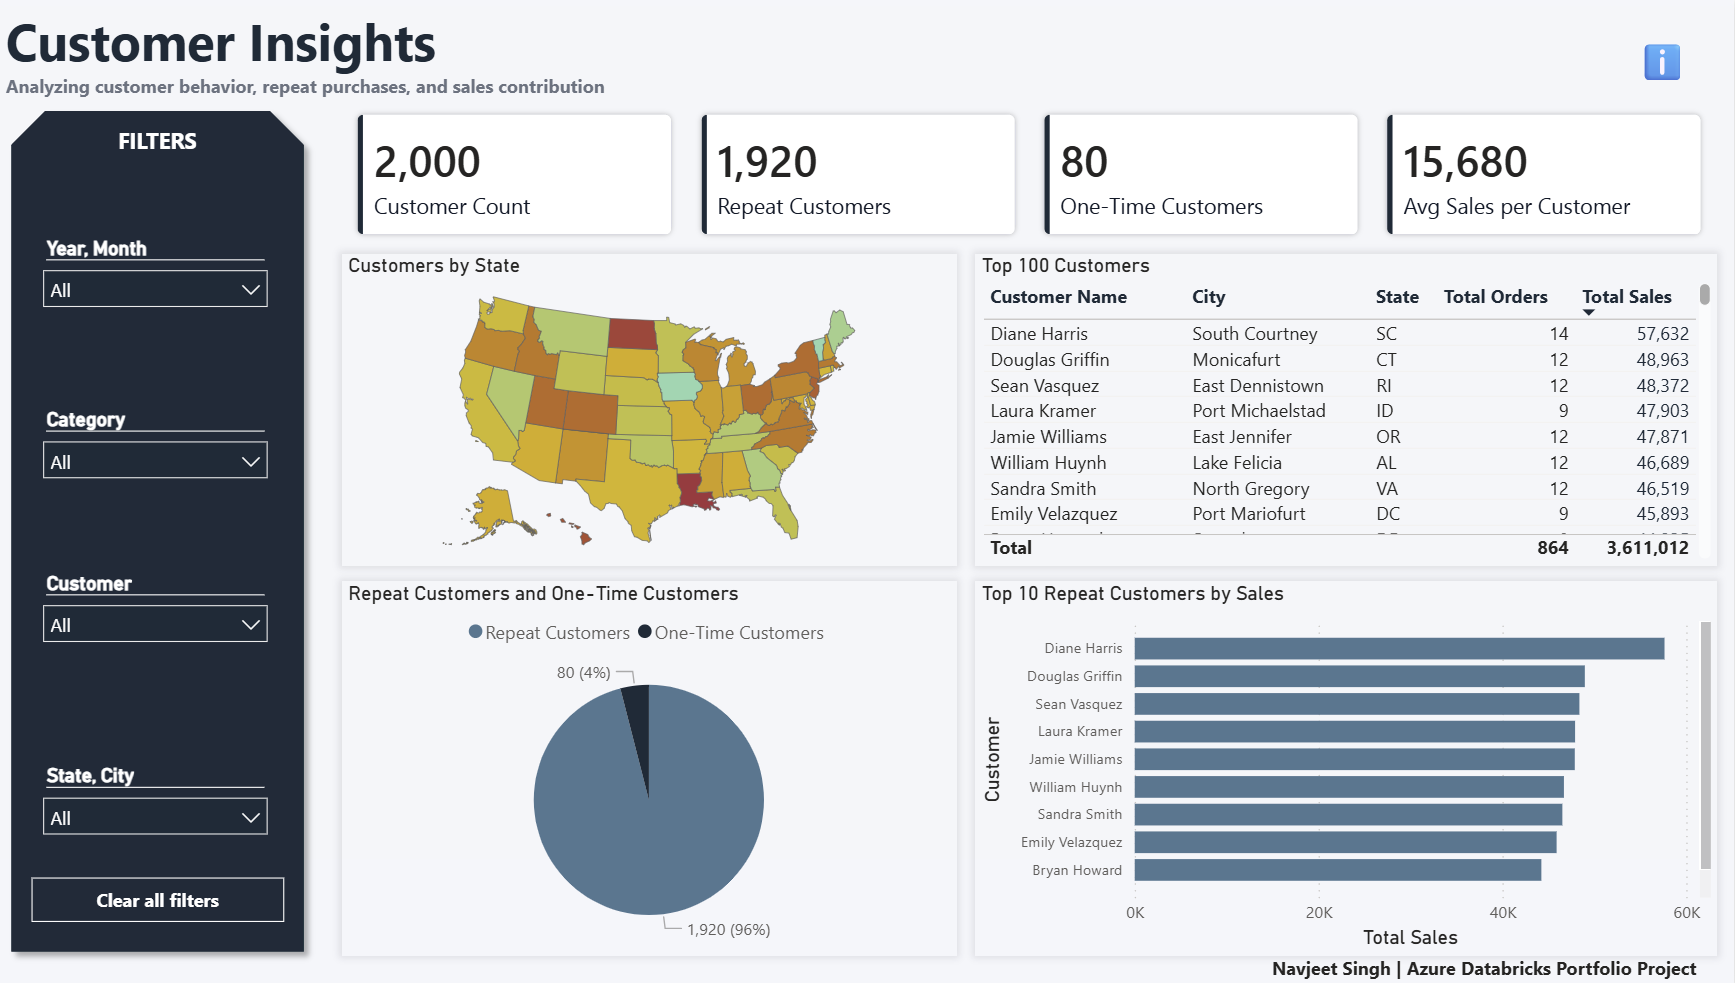

The dashboard page shown, as its layout file describes it:
{"tool":"powerbi","page":{"name":"Customer Insights","canvas":[1280,730],"ordinal":2},"visuals":[{"type":"shape","box":[0,72.5,233.8,638],"z":0},{"type":"textbox","box":[0,0,1280,82.5],"z":1000},{"type":"cardVisual","fields":{"Data":["KPIs.Customer Count","KPIs.Repeat Customer","KPIs.One-Time Customers","KPIs.Avg Sales per Customer"]},"box":[252.5,72.5,1017.5,112.5],"z":2000},{"type":"slicer","fields":{"Values":["dimcalendar.Year","dimcalendar.MonthName"]},"box":[22.5,169.5,186.2,80],"z":4000},{"type":"slicer","fields":{"Values":["dimproducts.category"]},"box":[22.5,295.8,186.2,80],"z":5000},{"type":"slicer","fields":{"Values":["dimcustomers.full_name"]},"box":[22.5,417,186.2,80],"z":6000},{"type":"slicer","fields":{"Values":["dimcustomers.state","dimcustomers.city"]},"box":[22.5,558.3,186.2,80],"z":7000},{"type":"shapeMap","title":"Customers by State","fields":{"Category":["dimcustomers.state"],"Value":["KPIs.Customer Count"]},"box":[252.5,187.5,453.8,230],"z":8000},{"type":"textbox","box":[933.8,700,346.2,30],"z":10000},{"type":"tableEx","title":"Top 100 Customers","fields":{"Values":["dimcustomers.full_name","dimcustomers.city","dimcustomers.state","KPIs.Total Orders","KPIs.Total Sales"]},"box":[720,187.5,547.5,230],"z":10001},{"type":"pieChart","fields":{"Y":["KPIs.Repeat Customer","KPIs.One-Time Customers"]},"box":[252.5,428.8,453.8,276.2],"z":10003},{"type":"clusteredBarChart","title":"Top 10 Repeat Customers by Sales","fields":{"Category":["dimcustomers.full_name"],"Y":["KPIs.Total Sales"]},"box":[720,428.8,547.5,276.2],"z":10006},{"type":"actionButton","box":[23.8,647.5,186.2,32.5],"z":10008},{"type":"cardVisual","fields":{"Data":["KPIs.Page 3 Questions"]},"box":[1196.3,17.1,58.7,50.2],"z":10009}]}

Visuals, with their boxes in screenshot pixels (x1, y1, x2, y2), scaled from the page's 1280x730 canvas onto the 1735x983 screenshot:
shape: bbox=[0, 98, 317, 957]
textbox: bbox=[0, 0, 1734, 111]
cardVisual - KPIs.Customer Count x KPIs.Repeat Customer: bbox=[342, 98, 1721, 249]
slicer - dimcalendar.Year x dimcalendar.MonthName: bbox=[30, 228, 283, 336]
slicer - dimproducts.category: bbox=[30, 398, 283, 506]
slicer - dimcustomers.full_name: bbox=[30, 562, 283, 669]
slicer - dimcustomers.state x dimcustomers.city: bbox=[30, 752, 283, 860]
"Customers by State" shapeMap: bbox=[342, 252, 957, 562]
textbox: bbox=[1266, 943, 1734, 982]
"Top 100 Customers" tableEx: bbox=[976, 252, 1718, 562]
pieChart - KPIs.Repeat Customer x KPIs.One-Time Customers: bbox=[342, 577, 957, 949]
"Top 10 Repeat Customers by Sales" clusteredBarChart: bbox=[976, 577, 1718, 949]
actionButton: bbox=[32, 872, 285, 916]
cardVisual - KPIs.Page 3 Questions: bbox=[1622, 23, 1701, 91]
